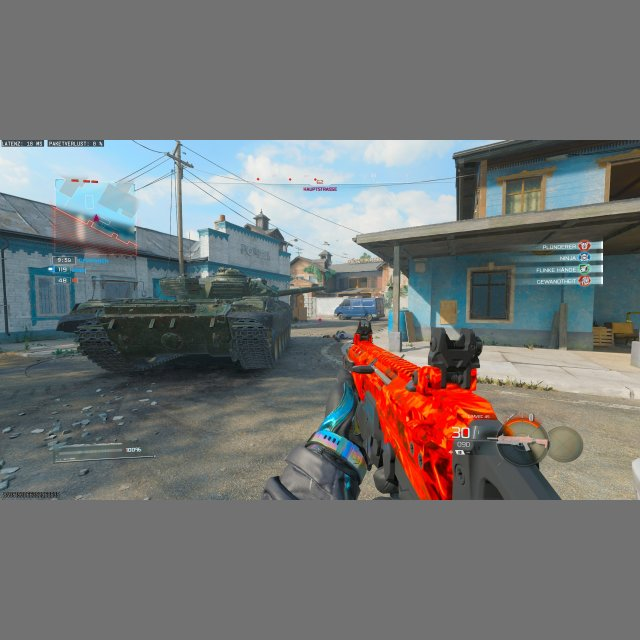head: (354, 324, 373, 343)
